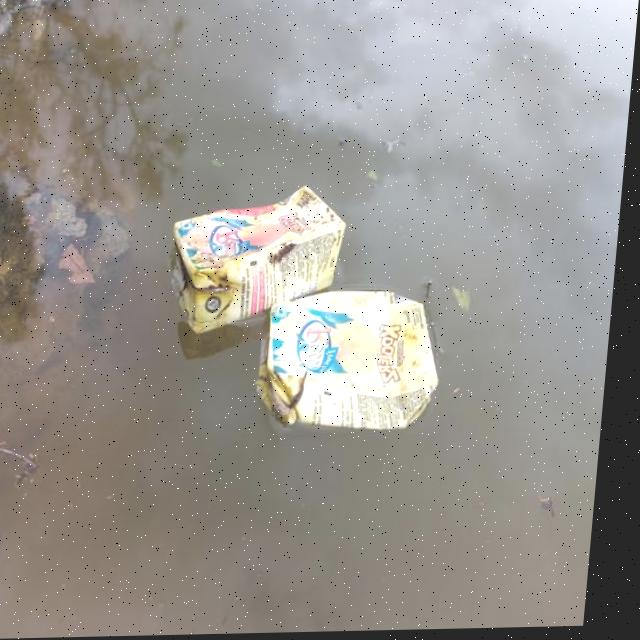paper: (168, 176, 353, 330), (267, 291, 452, 438)
